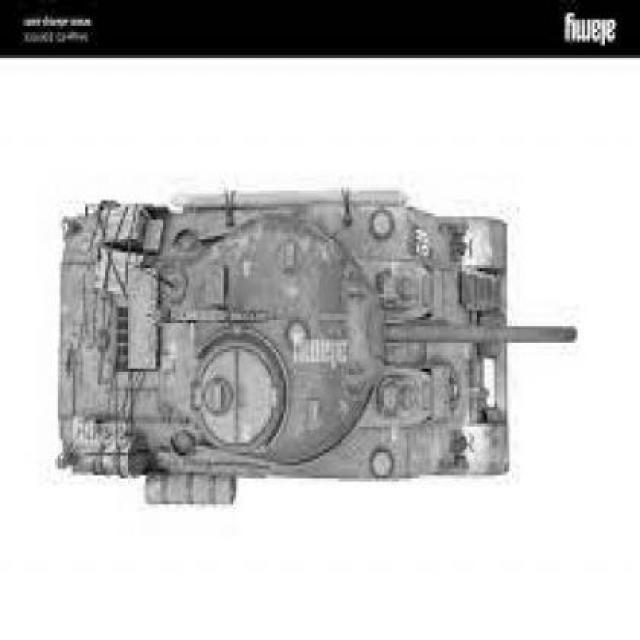Tanks: (58, 196, 579, 504)
